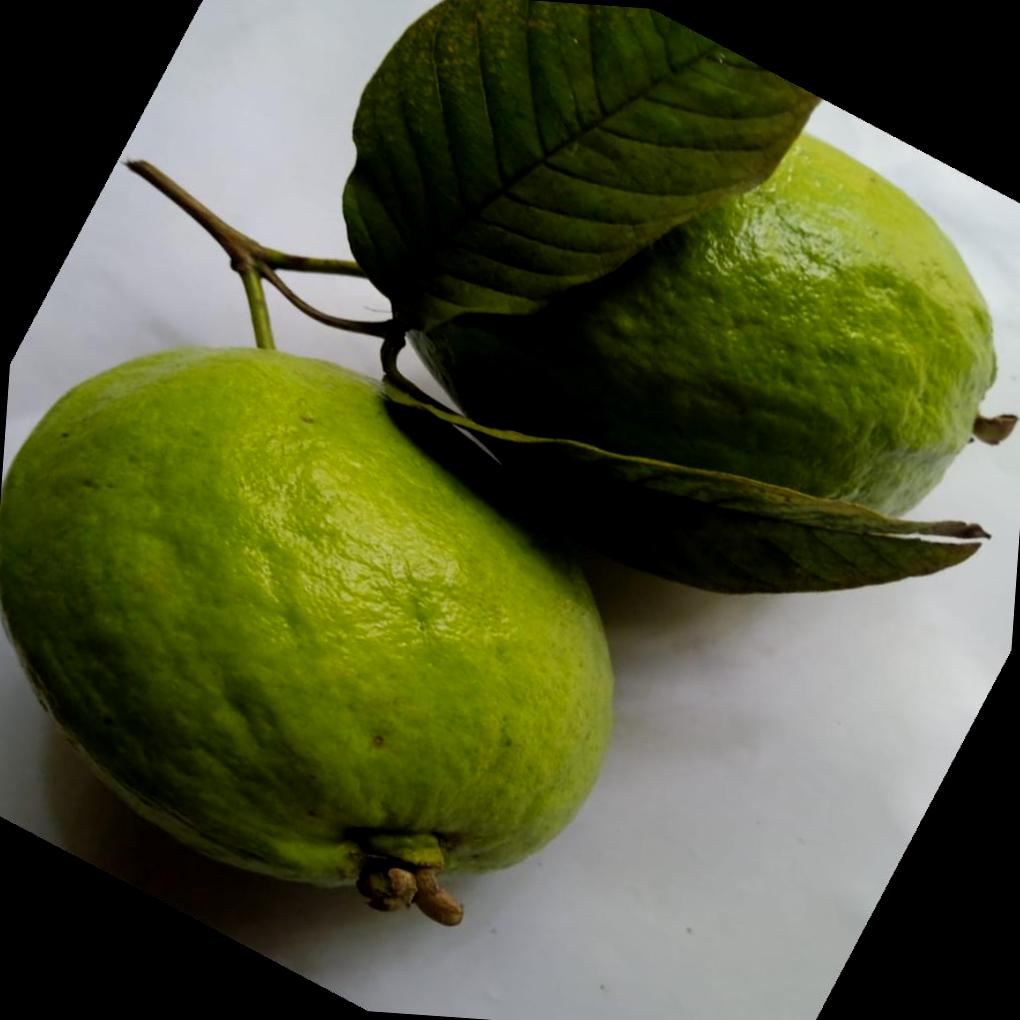FreshGuava: (0, 0, 1009, 927)
